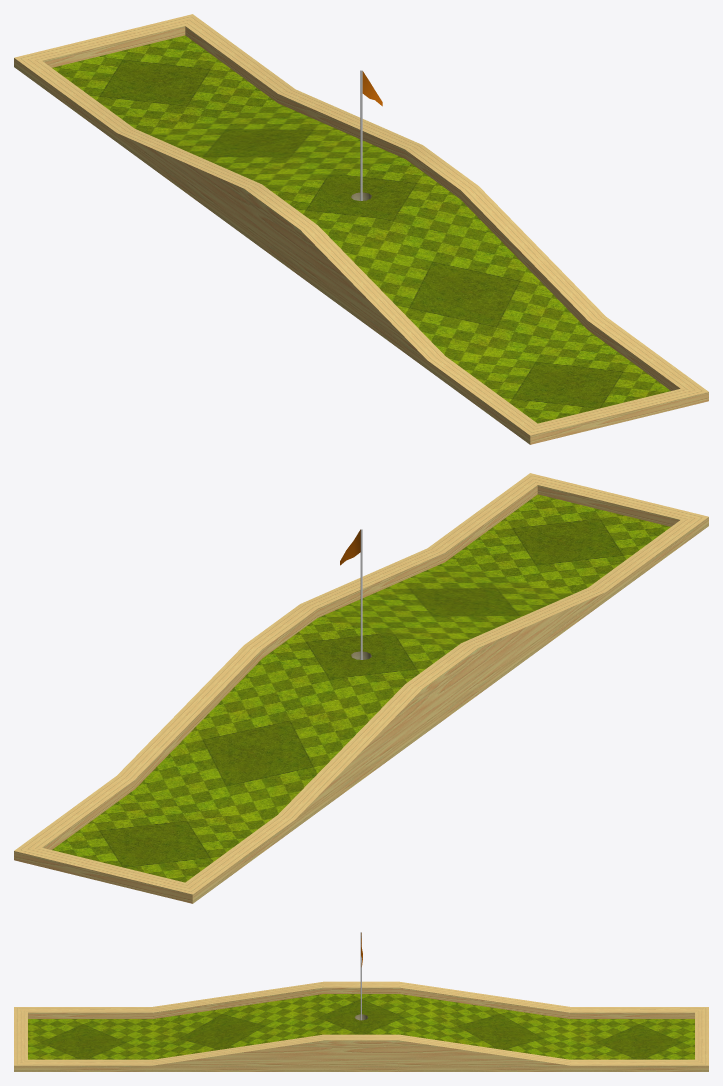
File: course1_hole13.fbx
3 renders of one model, top to bottom at view 1: azimuth 30°, elevation 25°; view 2: azimuth 150°, elevation 25°; view 3: azimuth 270°, elevation 25°, orthographic. The views are drawn at different scales.
Parts seen in each view (by area): view 1: course1_hole13_ground, course1_hole13_walls, course1_hole13_flag; view 2: course1_hole13_ground, course1_hole13_walls, course1_hole13_flag; view 3: course1_hole13_ground, course1_hole13_walls.
Part boxes in pixels (box(x1,y1,x2,y2)): course1_hole13_ground: box(52, 35, 670, 423); course1_hole13_walls: box(14, 14, 708, 444); course1_hole13_flag: box(360, 70, 382, 200); course1_hole13_ground: box(52, 494, 670, 882); course1_hole13_walls: box(14, 473, 708, 903); course1_hole13_flag: box(340, 529, 362, 659); course1_hole13_ground: box(28, 994, 694, 1059); course1_hole13_walls: box(14, 981, 708, 1071).
Size of the model in its own units: 3 by 2.62 by 15.
